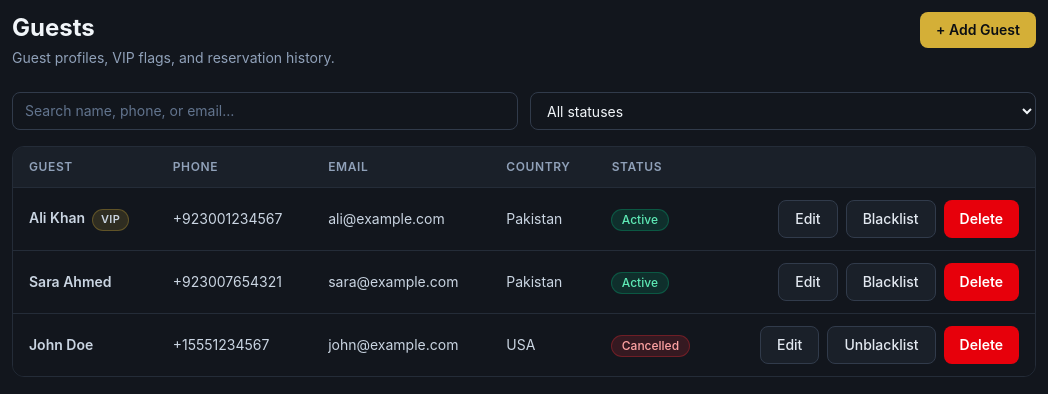
Scenario: GuestsPage › filters guests by search text
This screenshot has width=1048, height=394.
Expected: the button "Ali Khan VIP" is shown, x1=29 y1=208 x2=128 y2=230
Type "sara" into the field named "Search guests" at (265, 111), box x1=12 y1=92 x2=518 y2=130
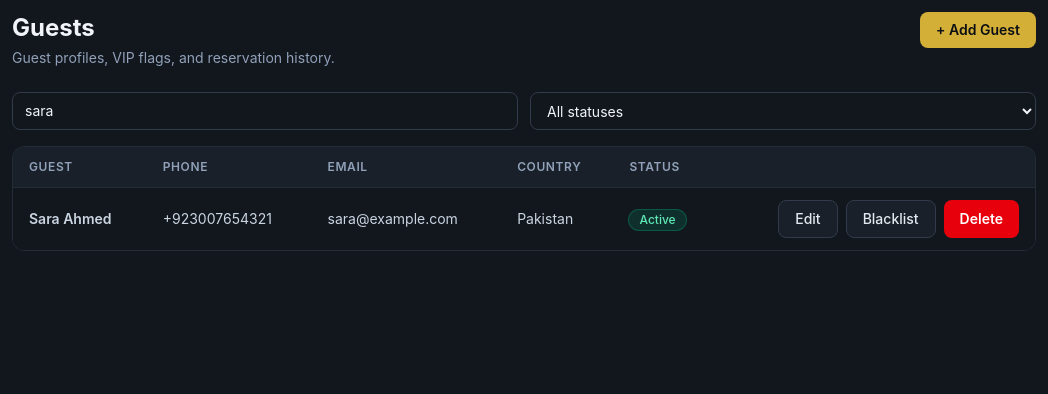
Expected: the button "Sara Ahmed" is shown, x1=29 y1=209 x2=112 y2=229
Result: the button "Ali Khan" is gone
